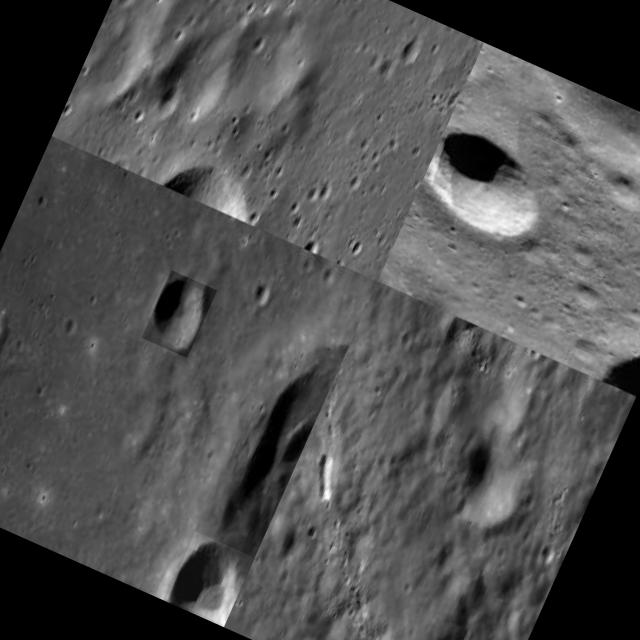crater: (414, 117, 560, 250), (165, 532, 253, 626), (142, 270, 216, 358)
